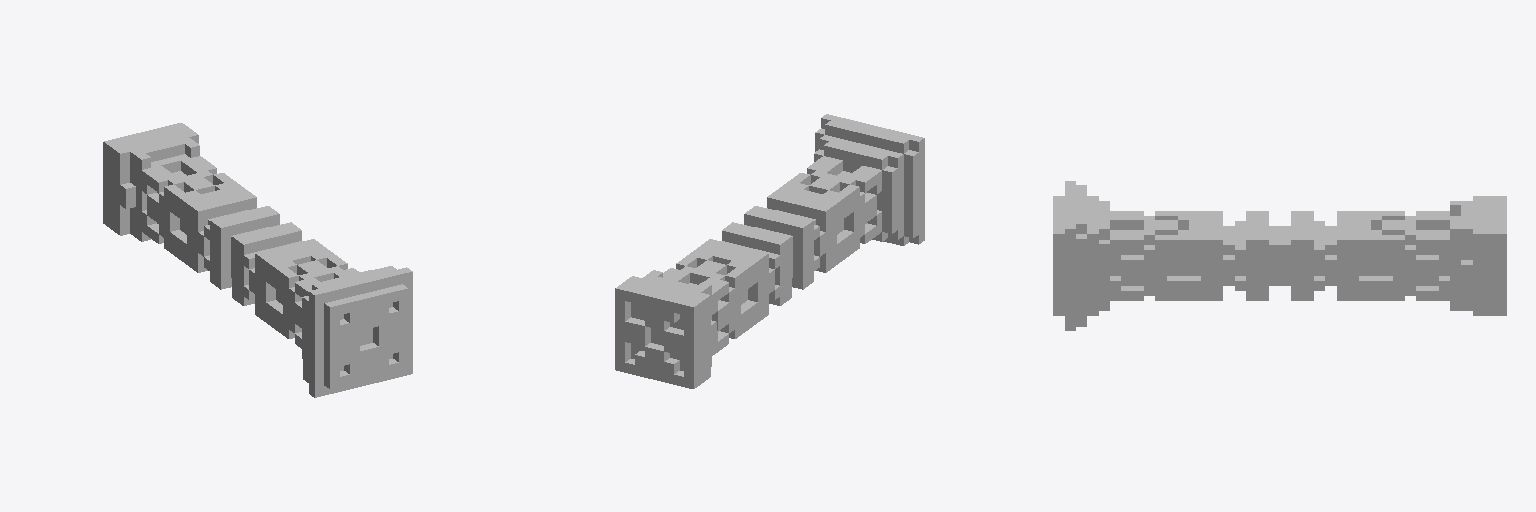
File: RamWeapon.obj
3 views of the same model, side by side, from view 1: azimuth 30°, elevation 25°; view 2: azimuth 150°, elevation 25°; view 3: azimuth 270°, elevation 25° (orthographic).
Parts seen in each view (by area): view 1: object 1; view 2: object 1; view 3: object 1.
Part boxes in pixels (bbox=[...]): object 1: bbox=[103, 123, 412, 397]; object 1: bbox=[615, 114, 924, 388]; object 1: bbox=[1053, 181, 1506, 330].
Bounding box in the file's own units: 1 × 1 × 4.